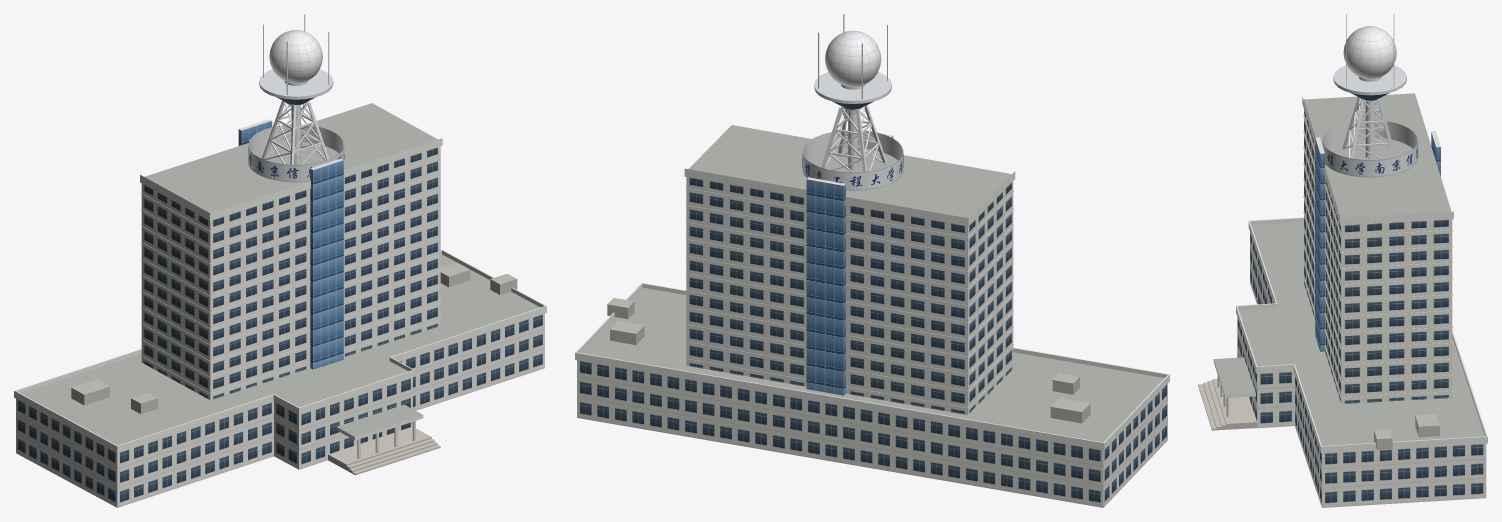
The model's file is qixianglou.glb.
3 views of the same model, side by side, from view 1: azimuth 30°, elevation 25°; view 2: azimuth 150°, elevation 25°; view 3: azimuth 270°, elevation 25° (orthographic). The views are drawn at different scales.
Parts seen in each view (by area): view 1: 气象楼_主体, 气象楼_雷达; view 2: 气象楼_主体, 气象楼_雷达; view 3: 气象楼_主体, 气象楼_雷达.
Part boxes in pixels (x1,y1,x2,y2): 气象楼_主体: (14, 103, 546, 507); 气象楼_雷达: (248, 14, 344, 182); 气象楼_主体: (575, 125, 1169, 507); 气象楼_雷达: (802, 14, 903, 190); 气象楼_主体: (1198, 93, 1487, 507); 气象楼_雷达: (1322, 14, 1418, 177).
Size of the model in its own units: 105 by 77.5 by 54.28.
Materials: 10 (5 with a texture image).
